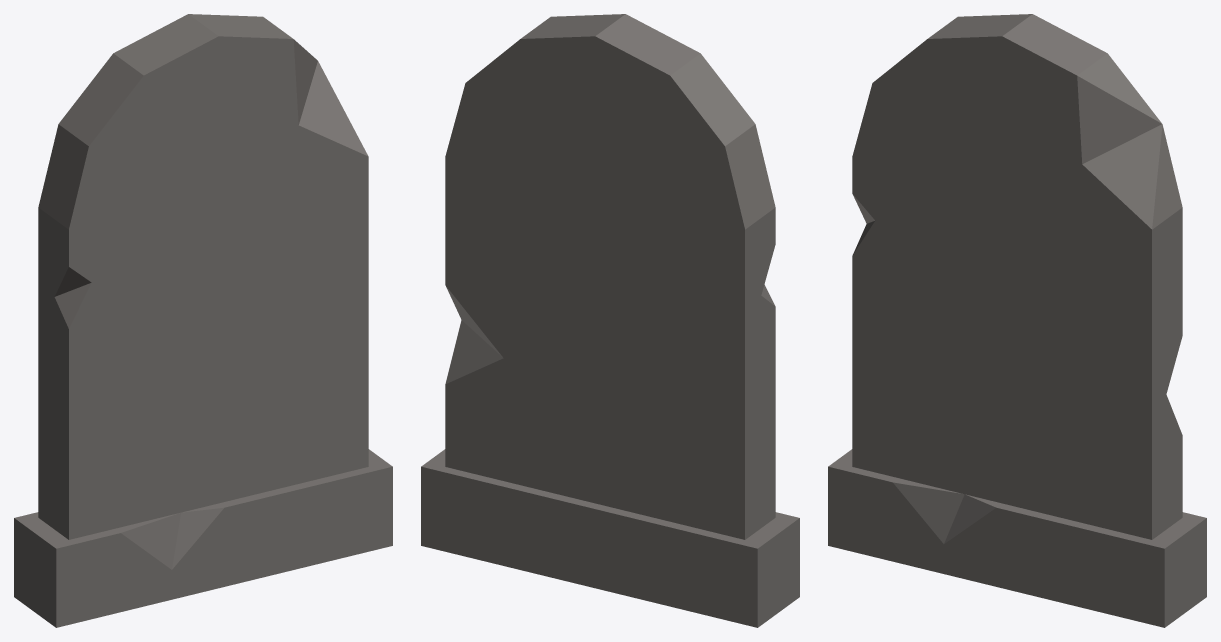
File: SM_Prop_Gravestone_02.glb
The picture shows the model from 3 angles, left to right: view 1: azimuth 30°, elevation 25°; view 2: azimuth 150°, elevation 25°; view 3: azimuth 330°, elevation 25°; orthographic projection.
Parts seen in each view (by area): view 1: SM_Prop_Gravestone_02; view 2: SM_Prop_Gravestone_02; view 3: SM_Prop_Gravestone_02.
Part boxes in pixels (x1=…): SM_Prop_Gravestone_02: x1=14, y1=14, x2=392, y2=627; SM_Prop_Gravestone_02: x1=421, y1=14, x2=799, y2=627; SM_Prop_Gravestone_02: x1=828, y1=14, x2=1206, y2=627.
Bounding box in the file's own units: 0.5815 × 0.902 × 0.1259.
1 material, 1 textured.
